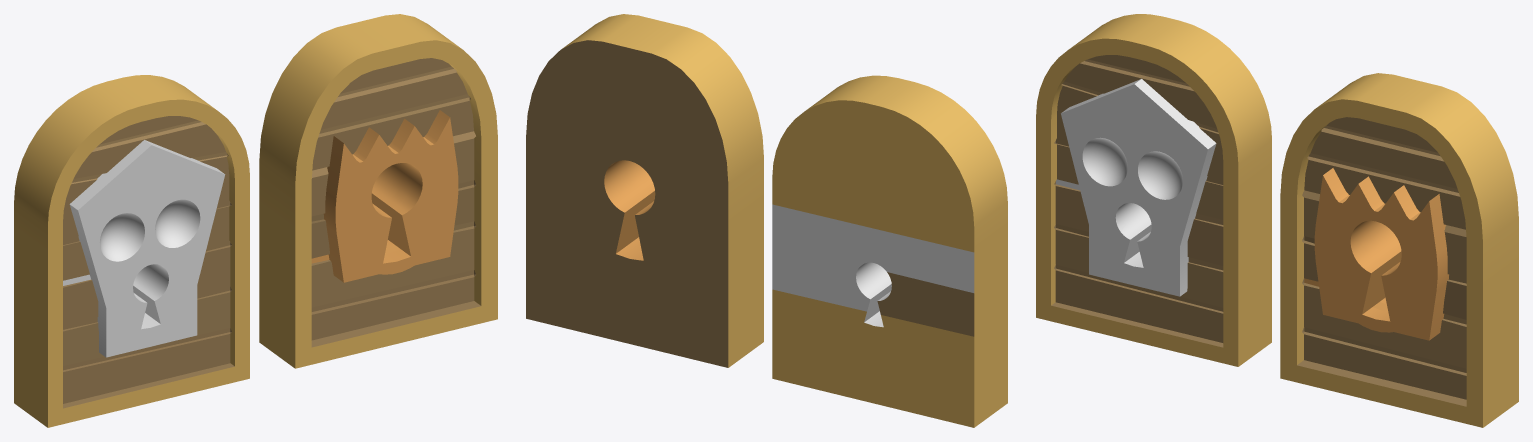
Rendered from Doors.fbx.
3 renders of one model, left to right at view 1: azimuth 30°, elevation 25°; view 2: azimuth 150°, elevation 25°; view 3: azimuth 330°, elevation 25°, orthographic.
Parts seen in each view (by area): view 1: TreasureDoor, BossDoor; view 2: TreasureDoor, BossDoor; view 3: TreasureDoor, BossDoor.
Boxes of the visible parts, x1,y1,x2,y2 form: TreasureDoor: [259, 14, 497, 368]; BossDoor: [14, 75, 249, 427]; TreasureDoor: [526, 14, 763, 367]; BossDoor: [772, 75, 1007, 427]; TreasureDoor: [1280, 73, 1518, 427]; BossDoor: [1036, 14, 1271, 366].
Bounding box in the file's own units: 623 × 397 × 93.42.
